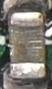Capacitor: (9, 13, 46, 79)
